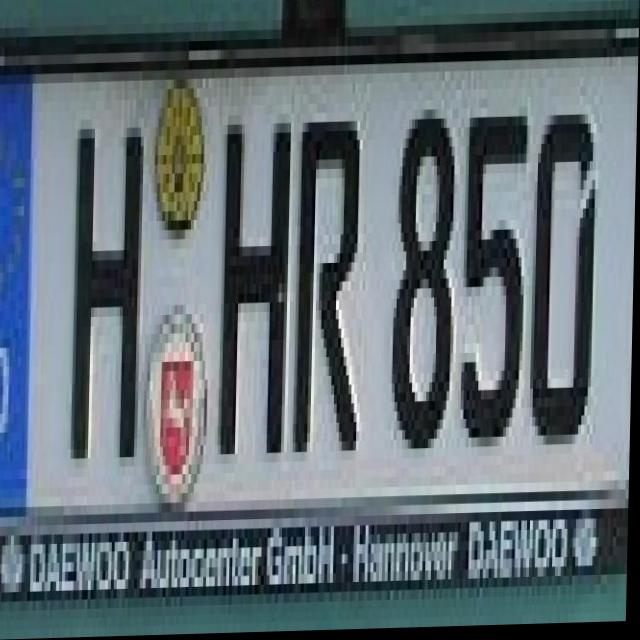0: (528, 89, 604, 449)
5: (458, 91, 532, 451)
8: (386, 83, 460, 462)
H: (67, 100, 148, 479), (211, 97, 292, 465)
